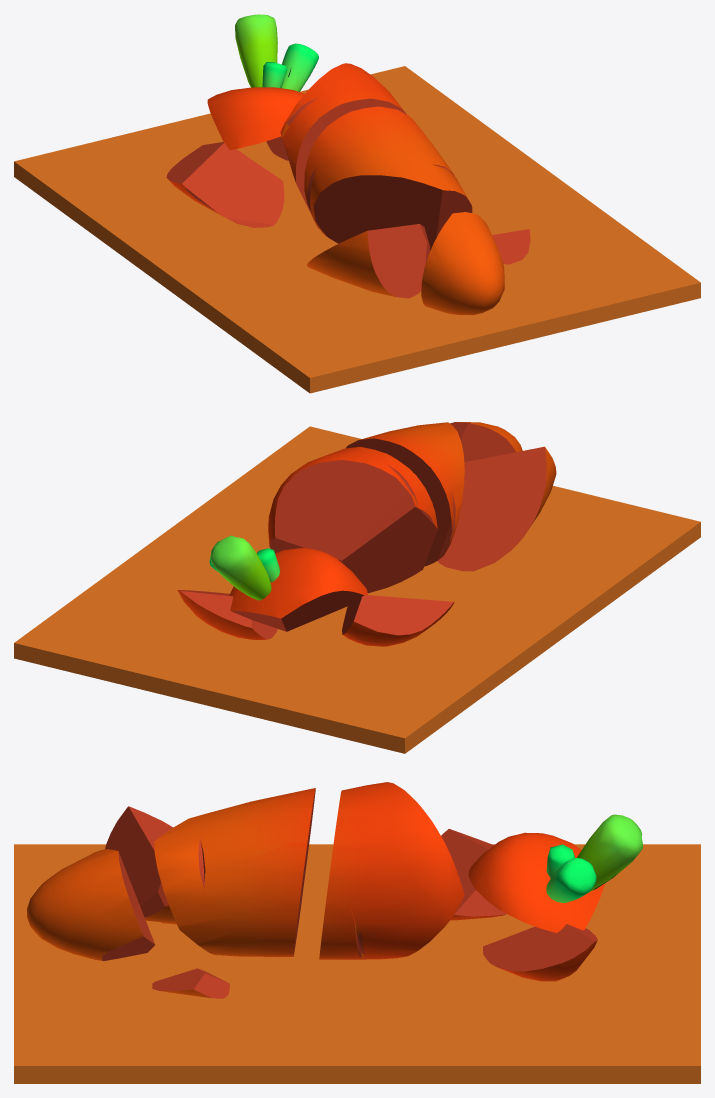
The model's file is POTONG.fbx.
3 renders of one model, top to bottom at view 1: azimuth 30°, elevation 25°; view 2: azimuth 150°, elevation 25°; view 3: azimuth 270°, elevation 25°, orthographic. The views are drawn at different scales.
Visible parts, largest first — view 1: Plane, Cube_cell.005, Cube_cell.010, Cube_cell.003, Cube_cell.006, Cube_cell.004, Cube_cell, Cube.002, Cube.003, Cube_cell.001; view 2: Plane, Cube_cell.004, Cube_cell.006, Cube_cell, Cube_cell.005, Cube_cell.003, Cube.002, Cube_cell.007, Cube_cell.010; view 3: Plane, Cube_cell.005, Cube_cell.004, Cube_cell.010, Cube_cell, Cube_cell.007, Cube_cell.006, Cube.002, Cube_cell.003, Cube.003, Cube_cell.001, Cube.001.
Part boxes in pixels (x1,y1,x2,y2): Plane: (14, 66, 700, 393); Cube_cell.005: (304, 106, 472, 250); Cube_cell.010: (421, 212, 504, 315); Cube_cell.003: (166, 142, 284, 227); Cube_cell.006: (307, 224, 430, 298); Cube_cell.004: (280, 63, 406, 228); Cube_cell: (207, 87, 304, 149); Cube.002: (235, 14, 277, 87); Cube.003: (282, 43, 318, 91); Cube_cell.001: (492, 229, 530, 264); Plane: (14, 426, 700, 753); Cube_cell.004: (268, 447, 437, 593); Cube_cell.006: (437, 446, 556, 571); Cube_cell: (229, 548, 367, 631); Cube_cell.005: (345, 422, 464, 566); Cube_cell.003: (342, 595, 454, 646); Cube.002: (210, 535, 271, 600); Cube_cell.007: (177, 590, 277, 639); Cube_cell.010: (450, 422, 522, 462); Plane: (14, 844, 700, 1083); Cube_cell.005: (154, 788, 315, 956); Cube_cell.004: (319, 782, 464, 959); Cube_cell.010: (27, 849, 155, 960); Cube_cell: (468, 832, 605, 932); Cube_cell.007: (483, 924, 597, 981); Cube_cell.006: (105, 806, 176, 924); Cube.002: (577, 814, 642, 892); Cube_cell.003: (441, 829, 506, 920); Cube.003: (546, 858, 596, 902); Cube_cell.001: (152, 968, 229, 998); Cube.001: (546, 844, 574, 878).
Size of the model in its own units: 526 by 198 by 689.
Materials: 6 (4 with a texture image).
